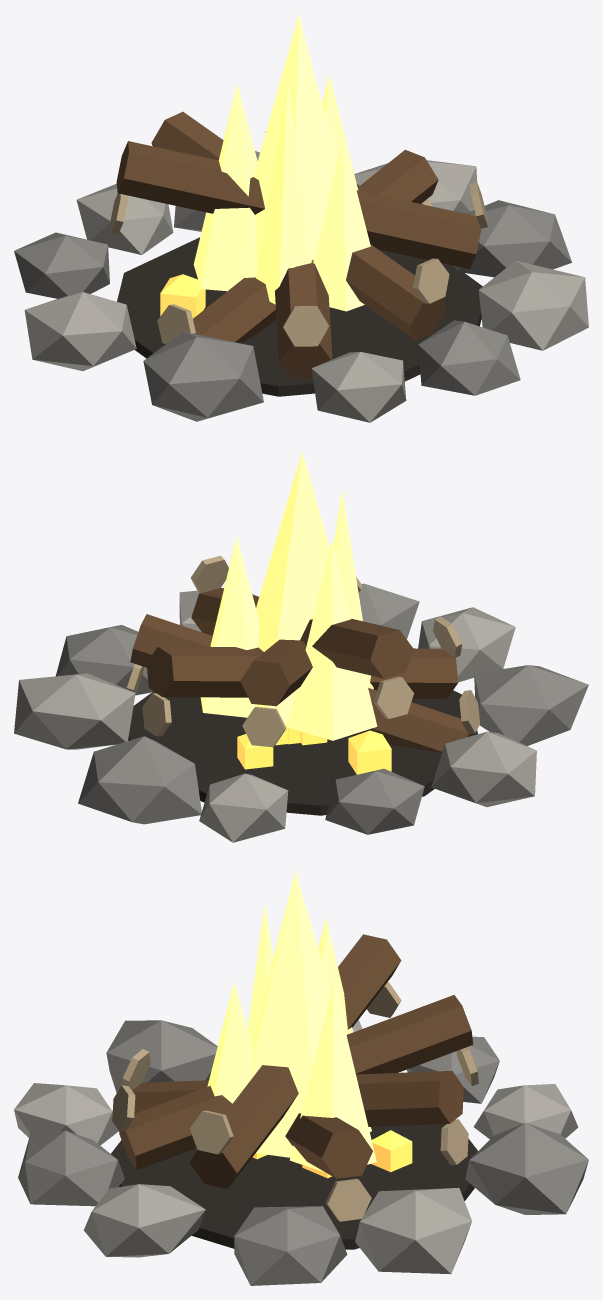
File: grove_campfire.glb
3 renders of one model, top to bottom at view 1: azimuth 30°, elevation 25°; view 2: azimuth 150°, elevation 25°; view 3: azimuth 270°, elevation 25°, orthographic. The views are drawn at different scales.
Visible parts, largest first — view 1: grove_campfire; view 2: grove_campfire; view 3: grove_campfire.
Boxes of the visible parts, <box> form: grove_campfire: <box>14,14,588,422</box>; grove_campfire: <box>14,452,588,842</box>; grove_campfire: <box>14,871,588,1285</box>.
Bounding box in the file's own units: 1.53 × 0.921 × 1.5.
